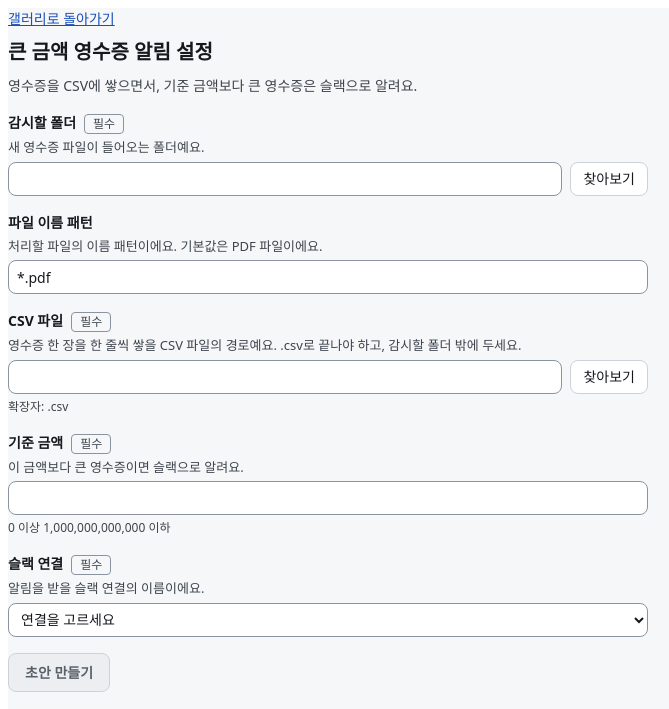
Scenario: RecipeForm picker timing › applies two picks that finish in any order to their own fields
Click the 1st button "찾아보기" at (609, 178), box left=570, top=162, right=648, bottom=196
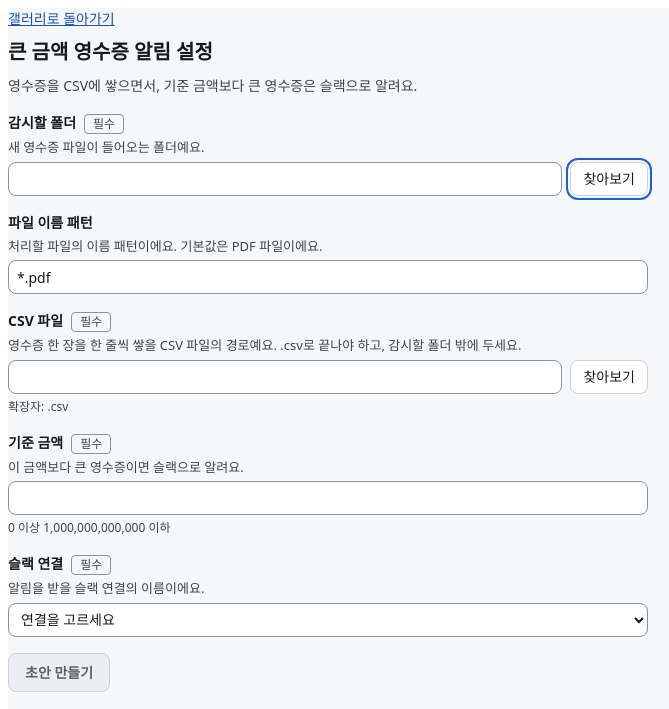
Click the 2nd button "찾아보기" at (609, 376), box left=570, top=360, right=648, bottom=394
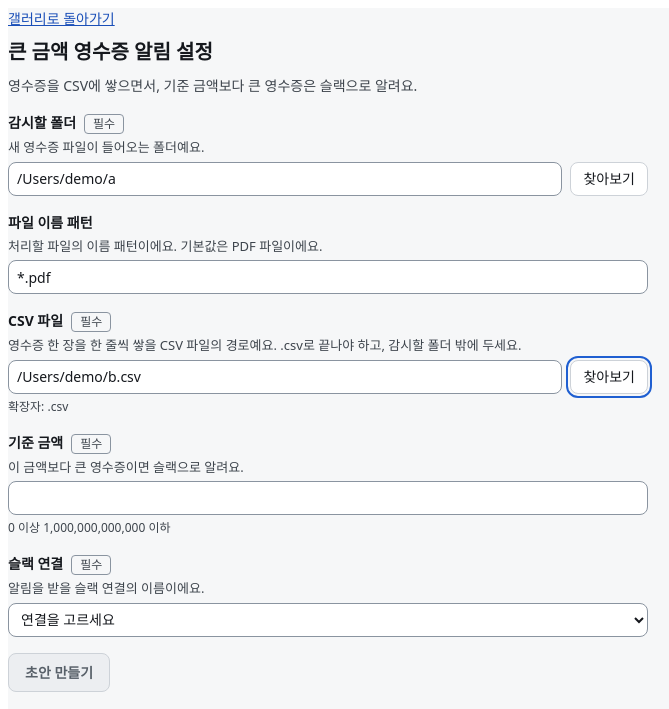
Result: the field labelled "감시할 폴더" holds "/Users/demo/a" at left=8, top=162, right=562, bottom=196
Result: the field labelled "CSV 파일" holds "/Users/demo/b.csv" at left=8, top=360, right=562, bottom=394
